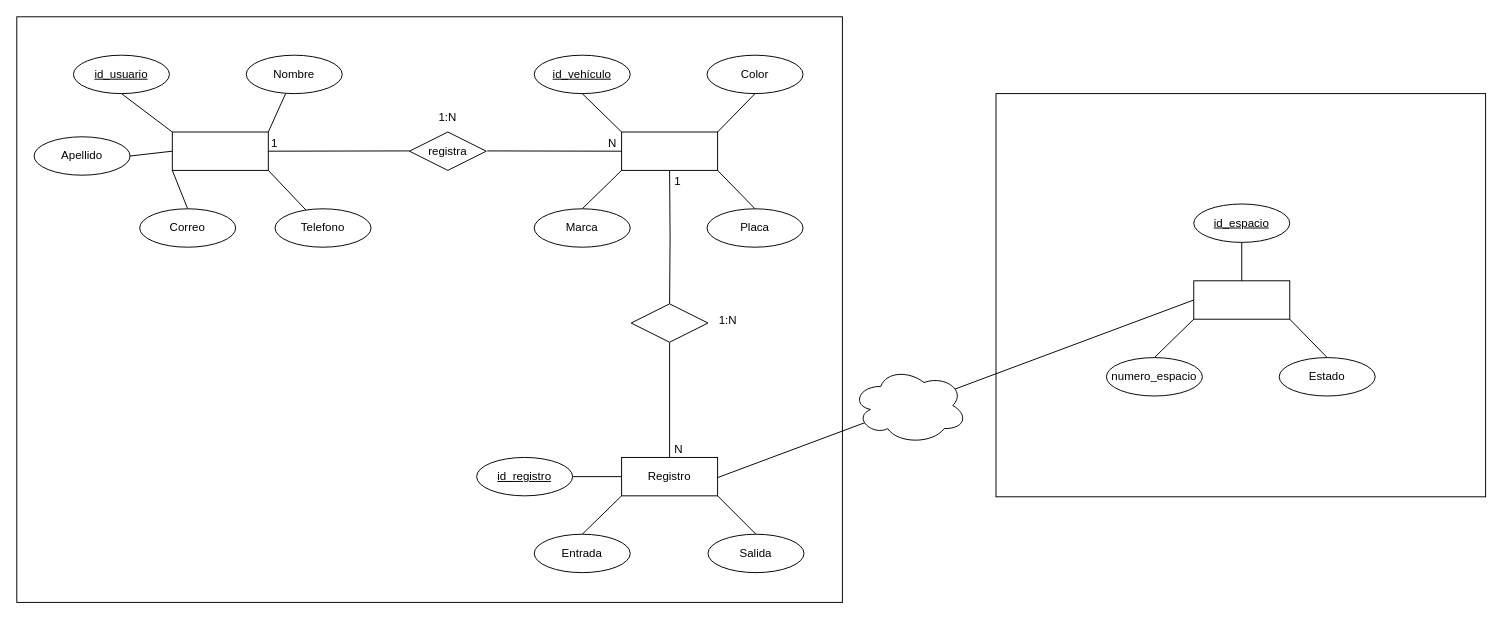
Some shapes in this 1502 by 619 pixel diagram are drawn without their labels. The centre of each missing label's shape, as x and y in pixels:
"Busca Espacio" goes at (909,405).
"Espacio" goes at (1241,299).
"genera" goes at (669,322).
"Usuario" goes at (219,150).
"Vehículo" goes at (669,150).
